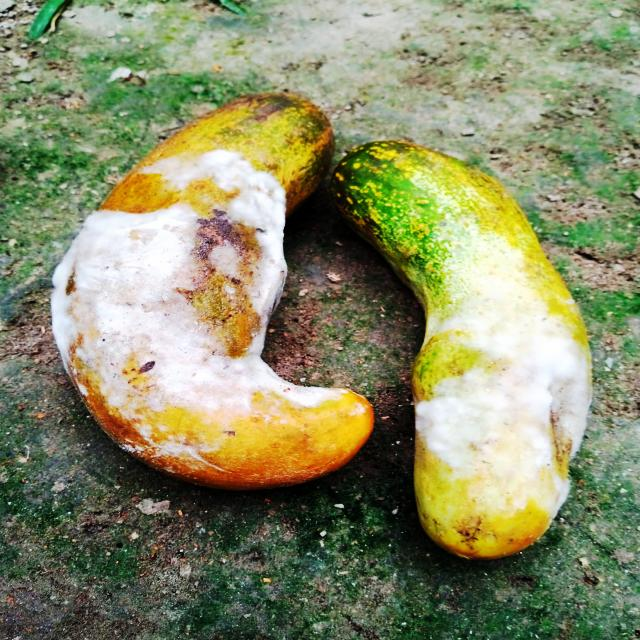Pythium-Fruit-Rot: (48, 145, 339, 474), (415, 285, 597, 511)
